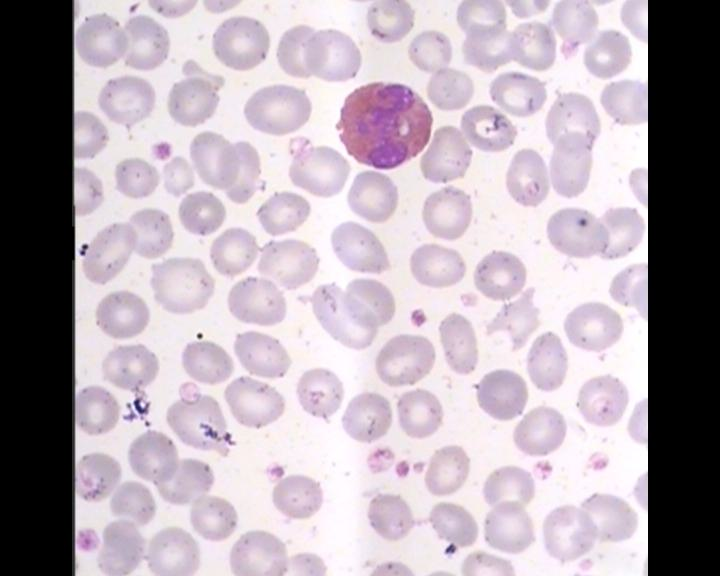eosi: (333, 78, 441, 171)
